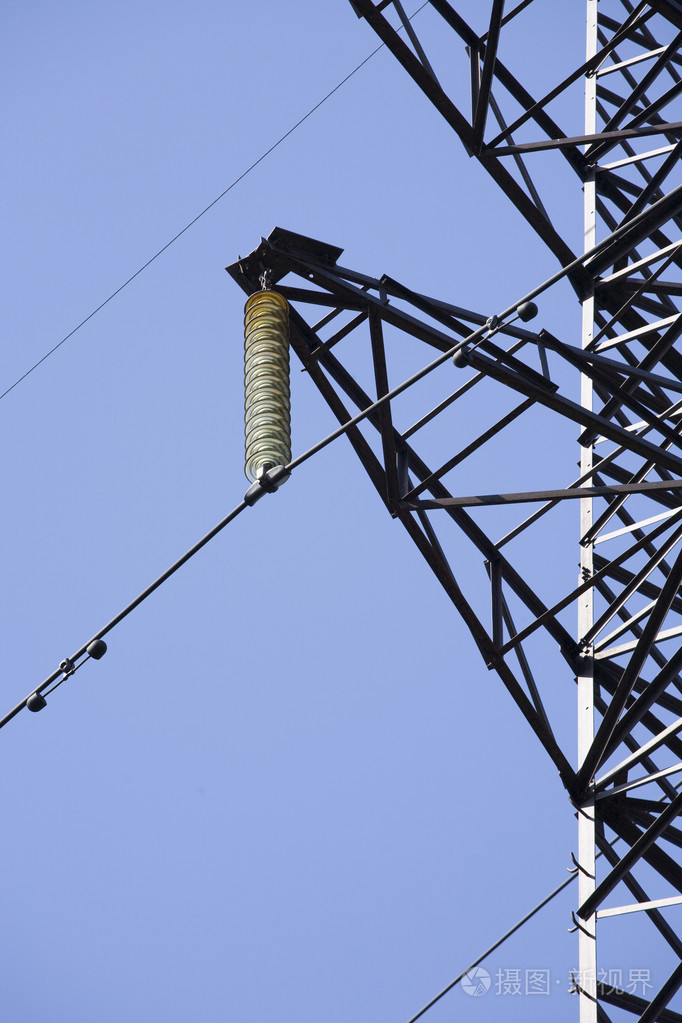insulator: (241, 291, 297, 479)
